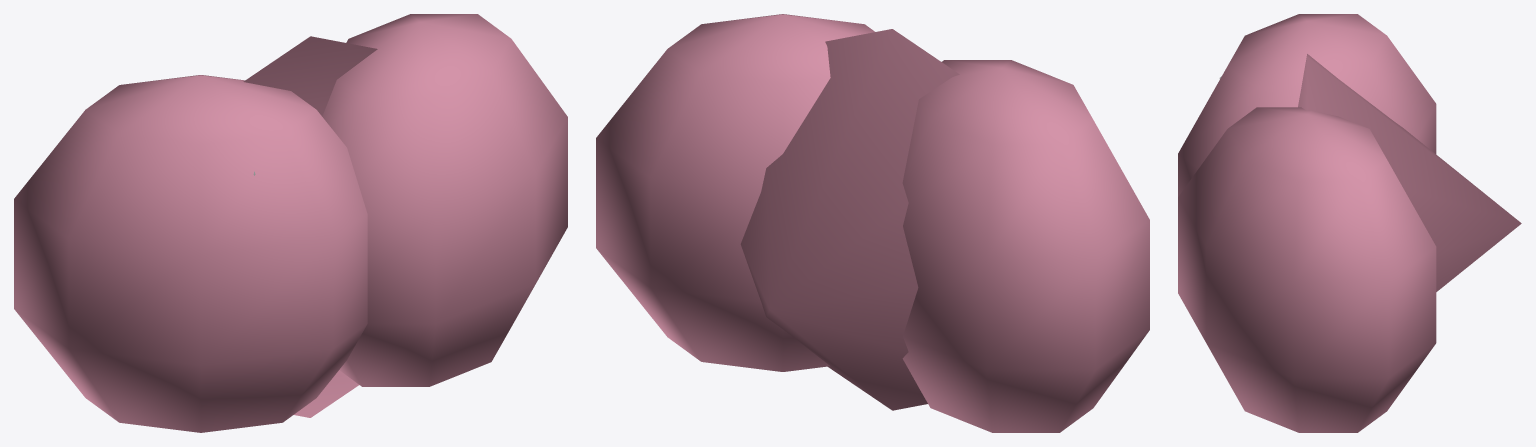
The model's file is col_heart_stone.gltf.
3 renders of one model, left to right at view 1: azimuth 30°, elevation 25°; view 2: azimuth 150°, elevation 25°; view 3: azimuth 270°, elevation 25°, orthographic. The views are drawn at different scales.
Parts seen in each view (by area): view 1: col_heart_stone; view 2: col_heart_stone; view 3: col_heart_stone.
Boxes of the visible parts, x1,y1,x2,y2 form: col_heart_stone: [14, 14, 567, 432]; col_heart_stone: [596, 14, 1149, 432]; col_heart_stone: [1178, 14, 1521, 432].
Size of what is drawn, in the model's own units: 0.0821 by 0.06 by 0.0561.
